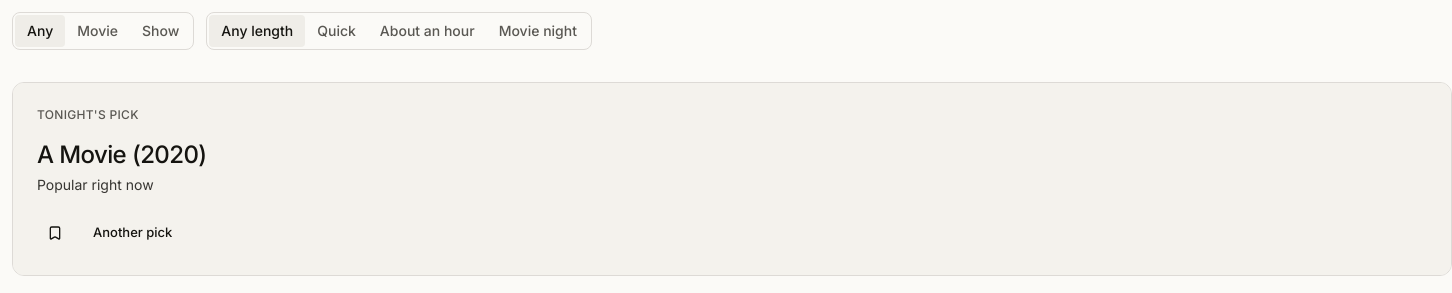
Test case: PickExperience › never repeats the same recommendation immediately after Another pick
Click the button "Another pick" at (133, 233), box [81, 217, 184, 249]
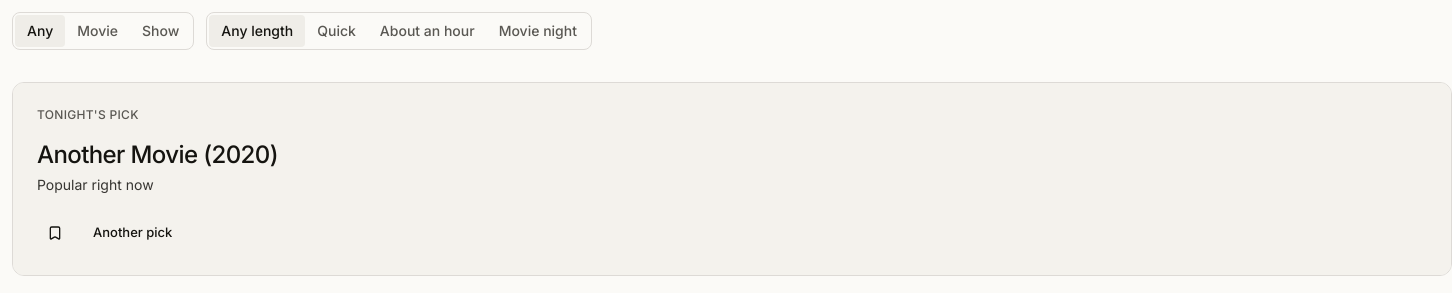
Expected: the link "Another Movie (2020)" is shown, [37, 139, 278, 171]
